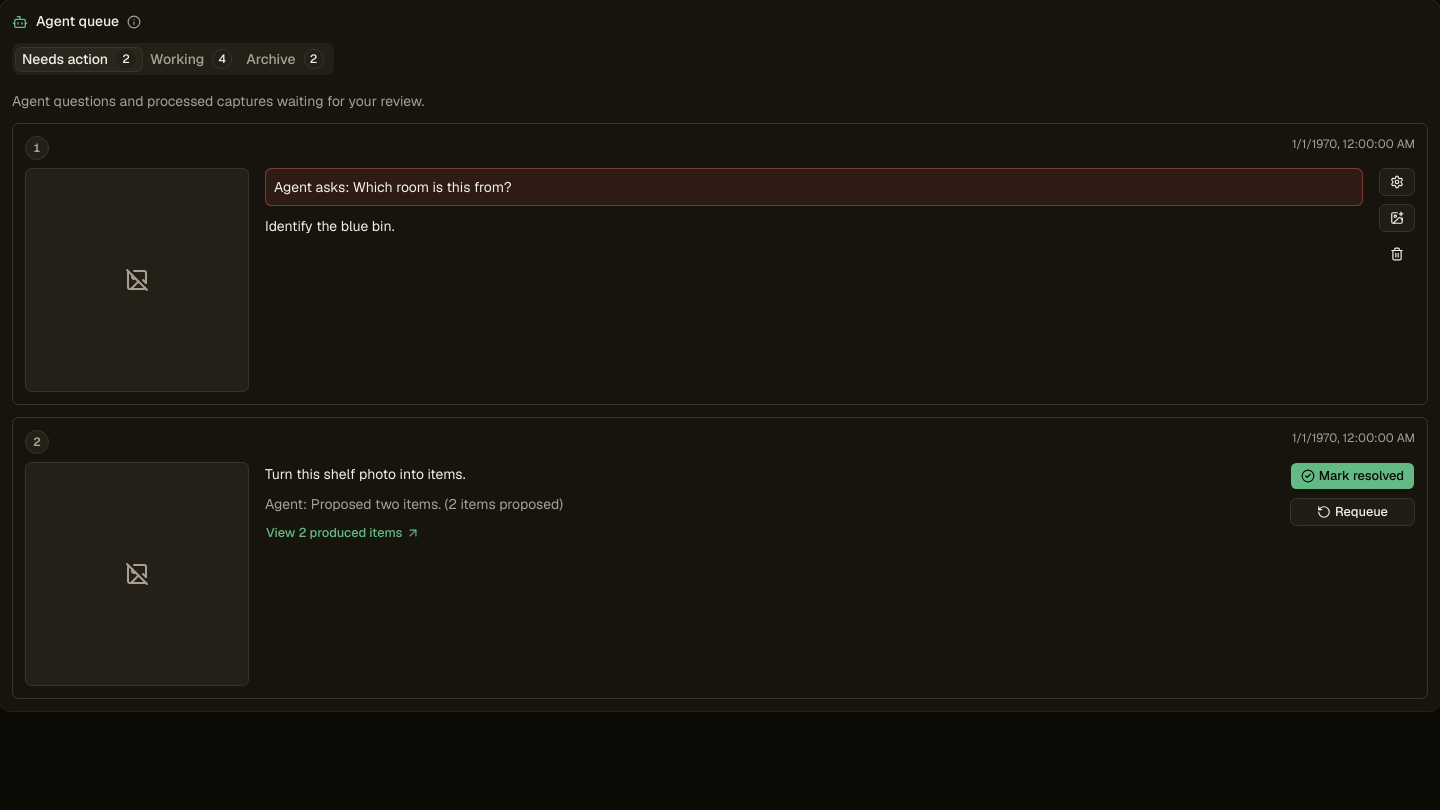
Test: IngestionQueueList detail modal (MOVE-356) › opens a capture detail modal when an entry is clicked
The width and height of the screenshot is (1440, 810).
Step 1. Click the button with aria-label "Open capture 1" → click(69, 135), box [12,123,1428,405]
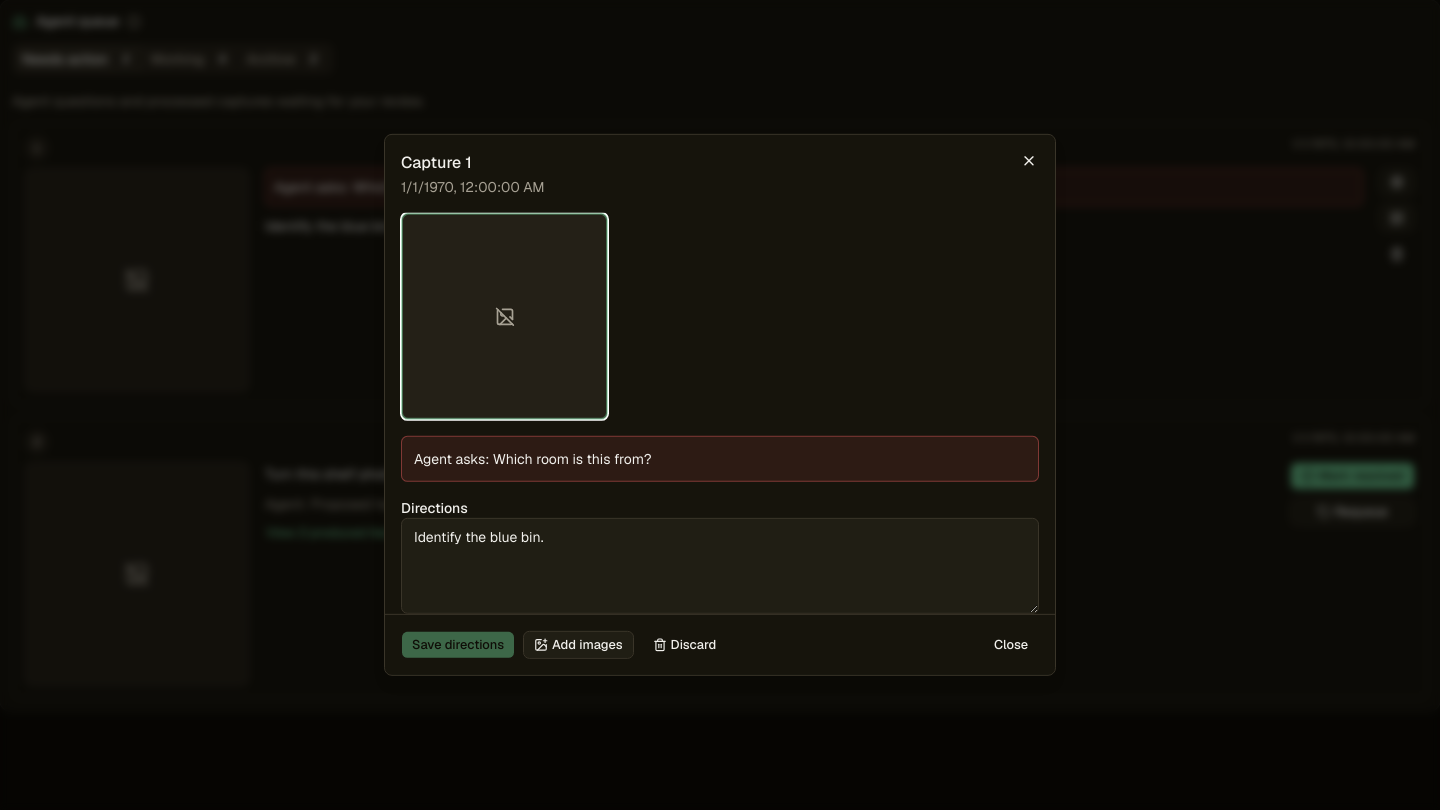
expect the heading "Capture 1" is shown: met, box [401,152,472,173]
expect the text box labelled "Directions" holds "Identify the blue bin.": met, box [401,518,1039,614]
expect the button "Save directions" is shown: met, box [401,631,515,659]
// Esc returns to the list with no modal.
Step 2. Press Escape
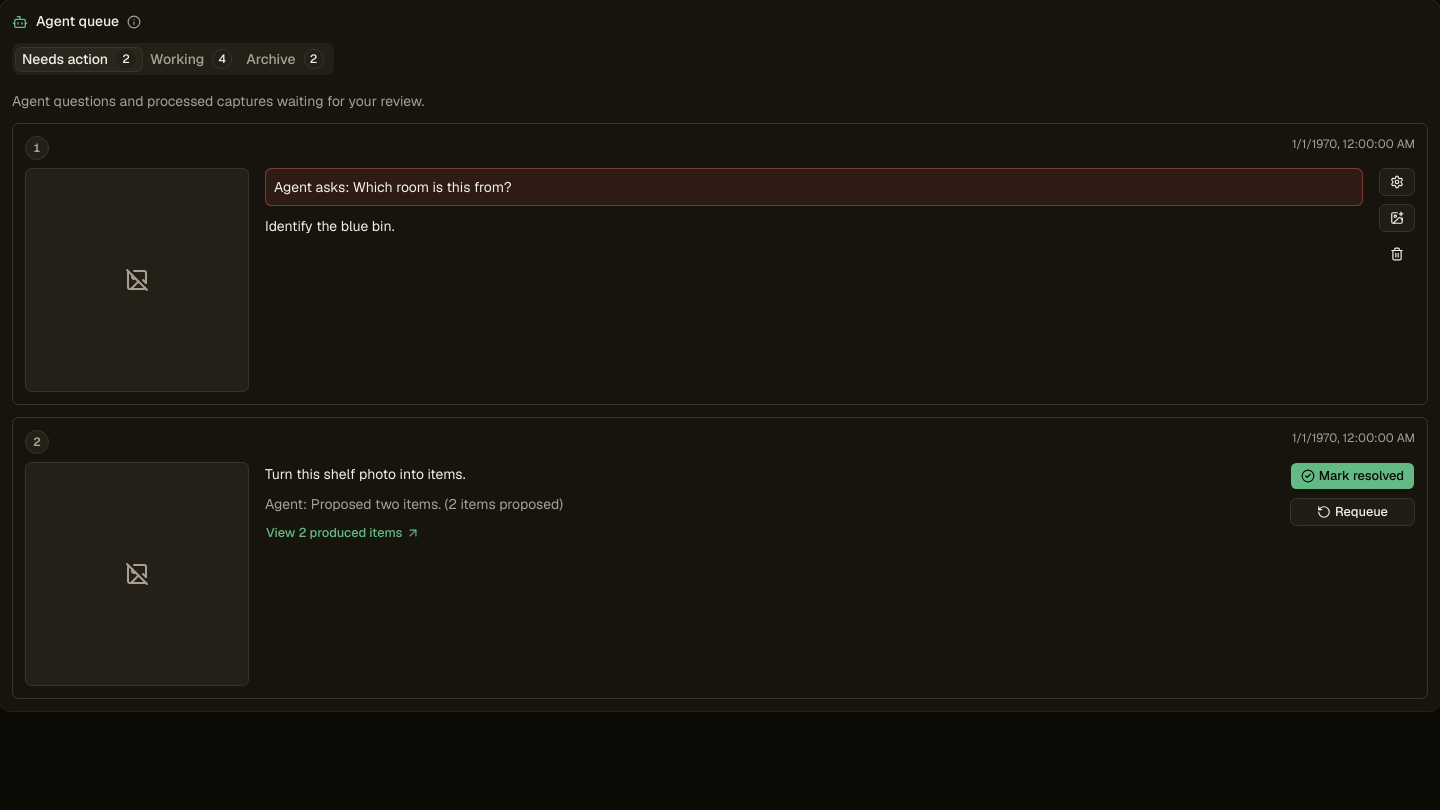
expect the dialog is gone: met
